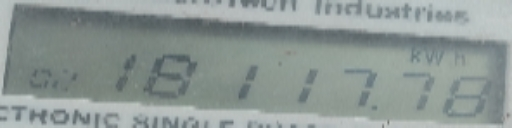1: (213, 52, 268, 113), (274, 50, 329, 111), (111, 39, 144, 104)
7: (325, 50, 380, 111), (382, 57, 437, 118)
8: (143, 45, 198, 106), (440, 62, 495, 123)
d: (370, 100, 383, 112)
